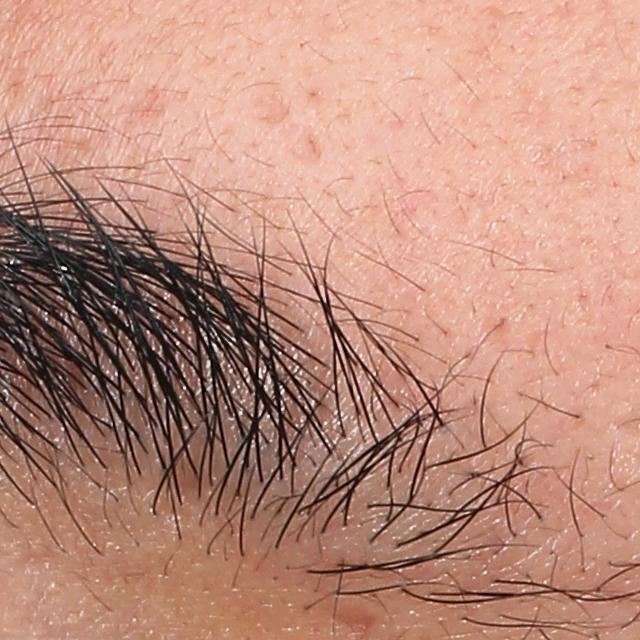atrophic_scar: (286, 121, 328, 169), (251, 94, 294, 128), (340, 608, 381, 638)
